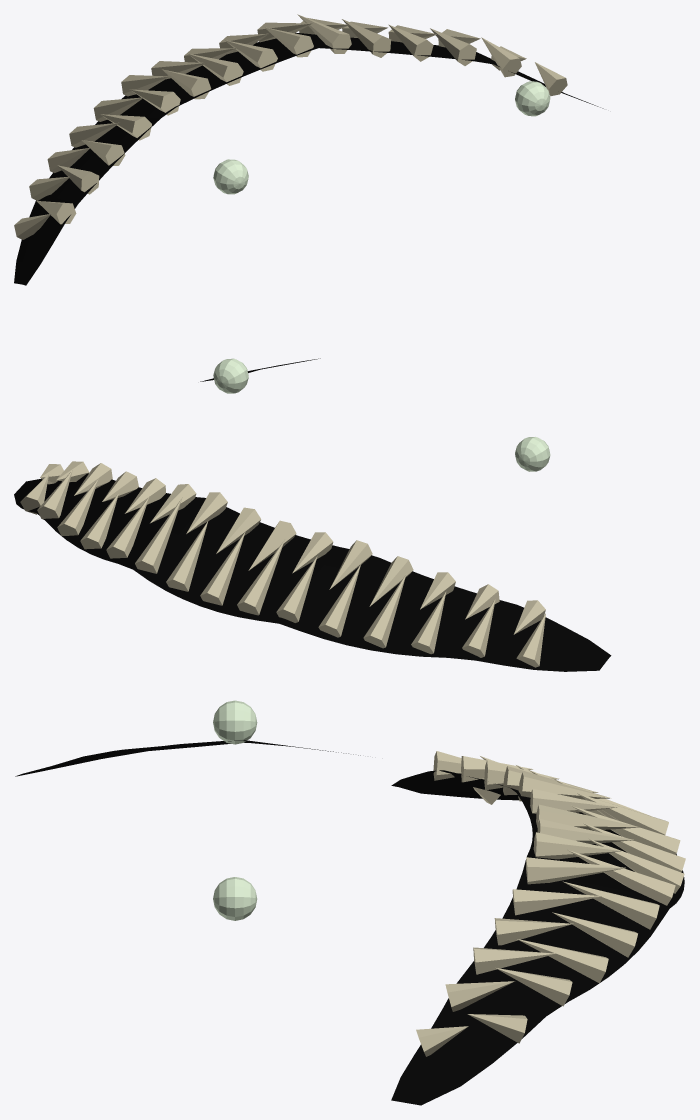
The model's file is unseen_face.obj.
3 views of the same model, one above another, from view 1: azimuth 30°, elevation 25°; view 2: azimuth 150°, elevation 25°; view 3: azimuth 270°, elevation 25° (orthographic). The views are drawn at different scales.
Parts seen in each view (by area): view 1: TeethTop, Mouth, TeethBottom, Eyes; view 2: Mouth, TeethBottom, TeethTop, Eyes; view 3: Mouth, TeethTop, TeethBottom, Eyes, Sockets.
Part boxes in pixels (x1,y1,x2,y2): TeethTop: (36, 14, 567, 224); Mouth: (14, 33, 603, 285); TeethBottom: (14, 18, 526, 239); Eyes: (213, 81, 550, 194); Mouth: (14, 473, 611, 671); TeethBottom: (20, 470, 545, 667); TeethTop: (40, 461, 545, 634); Eyes: (213, 358, 550, 471); Mouth: (391, 770, 684, 1105); TeethTop: (416, 751, 639, 1056); TeethBottom: (467, 756, 685, 1043); Eyes: (213, 700, 257, 920); Sockets: (15, 740, 360, 776).
Bounding box in the file's own units: 0.528 × 0.1271 × 0.4245.
